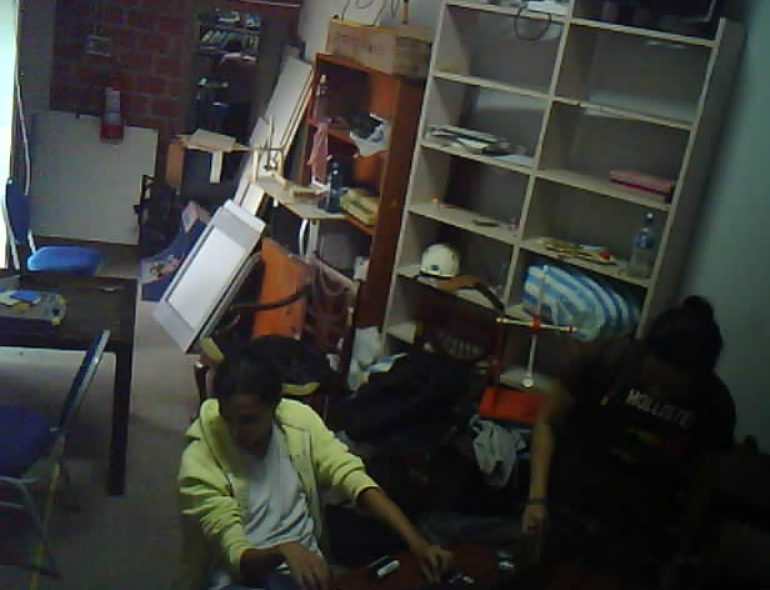person: (491, 264, 750, 590), (155, 346, 468, 590), (204, 25, 286, 129)
